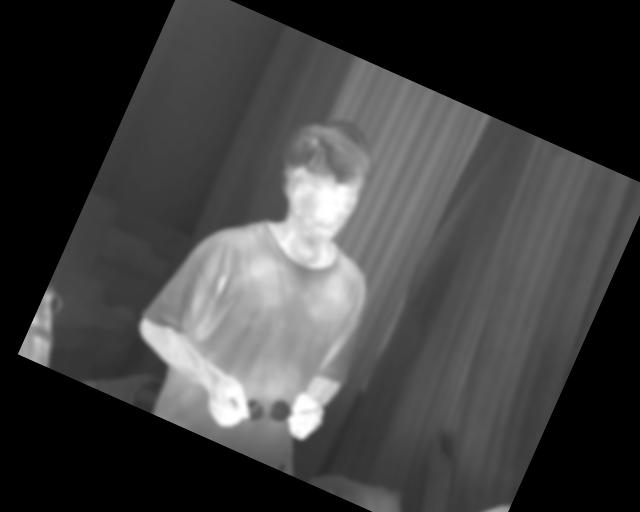face: (253, 101, 389, 253)
